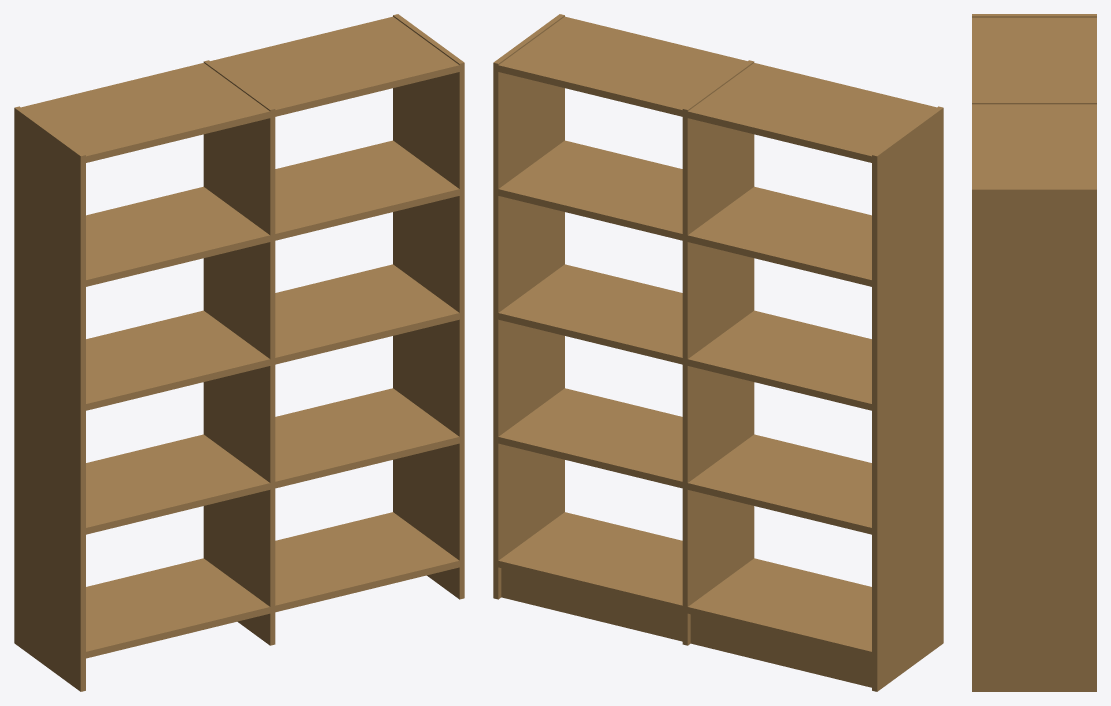
Rendered from parametric-shelf-2nd.glb.
The picture shows the model from 3 angles, left to right: view 1: azimuth 30°, elevation 25°; view 2: azimuth 150°, elevation 25°; view 3: azimuth 270°, elevation 25°; orthographic projection. The views are drawn at different scales.
Parts seen in each view (by area): view 1: parametric-shelf-2nd; view 2: parametric-shelf-2nd; view 3: parametric-shelf-2nd.
Boxes of the visible parts, box(x1,y1,x2,y2) form: parametric-shelf-2nd: box(14, 14, 464, 691); parametric-shelf-2nd: box(493, 14, 943, 691); parametric-shelf-2nd: box(972, 14, 1096, 691).
Size of the model in its own units: 1.5 by 2 by 0.45.
